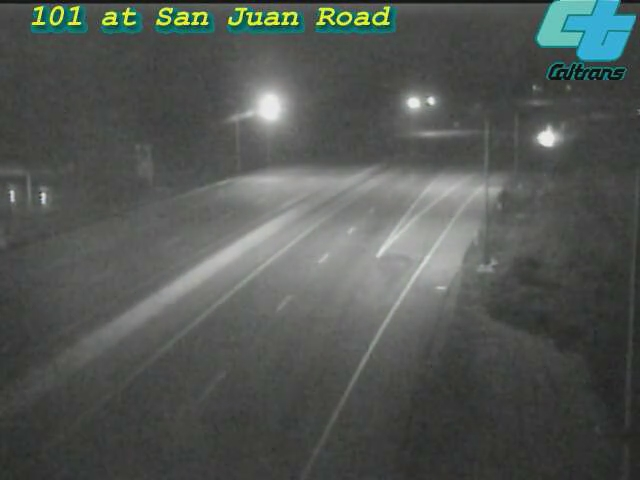vehicle: (522, 114, 572, 164)
